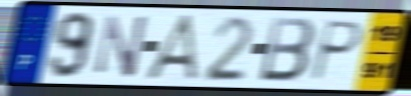2: (203, 14, 255, 83)
9: (45, 9, 96, 81)
A: (142, 12, 204, 84)
B: (257, 15, 318, 84)
N: (93, 13, 151, 80)
P: (307, 18, 366, 83)
